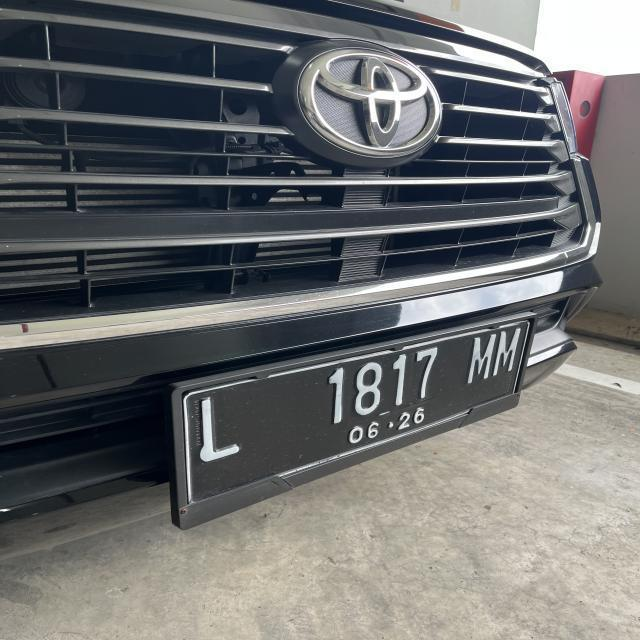1: (326, 366, 348, 426), (392, 348, 411, 406)
7: (418, 344, 436, 402)
8: (356, 356, 380, 414)
L: (192, 393, 245, 468)
M: (493, 328, 525, 377), (474, 335, 494, 380)
